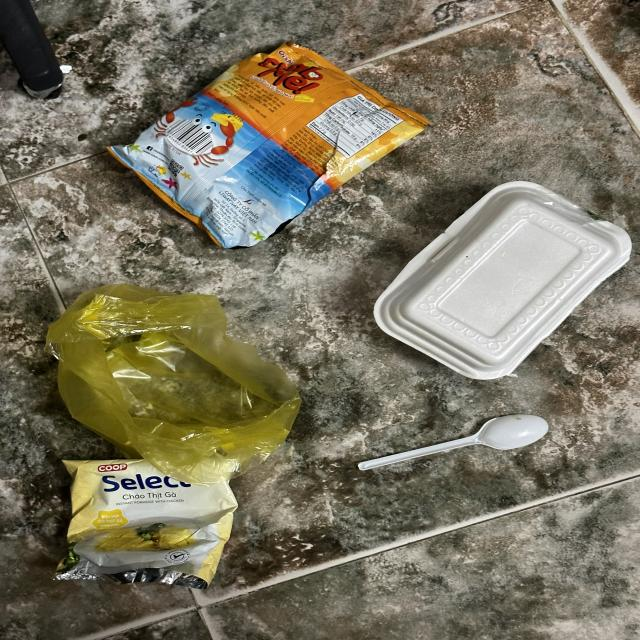bag: (42, 282, 303, 490)
foam box: (372, 179, 633, 381)
plastic utensil: (104, 39, 433, 251), (357, 413, 550, 472)
snack package: (50, 457, 242, 591)
